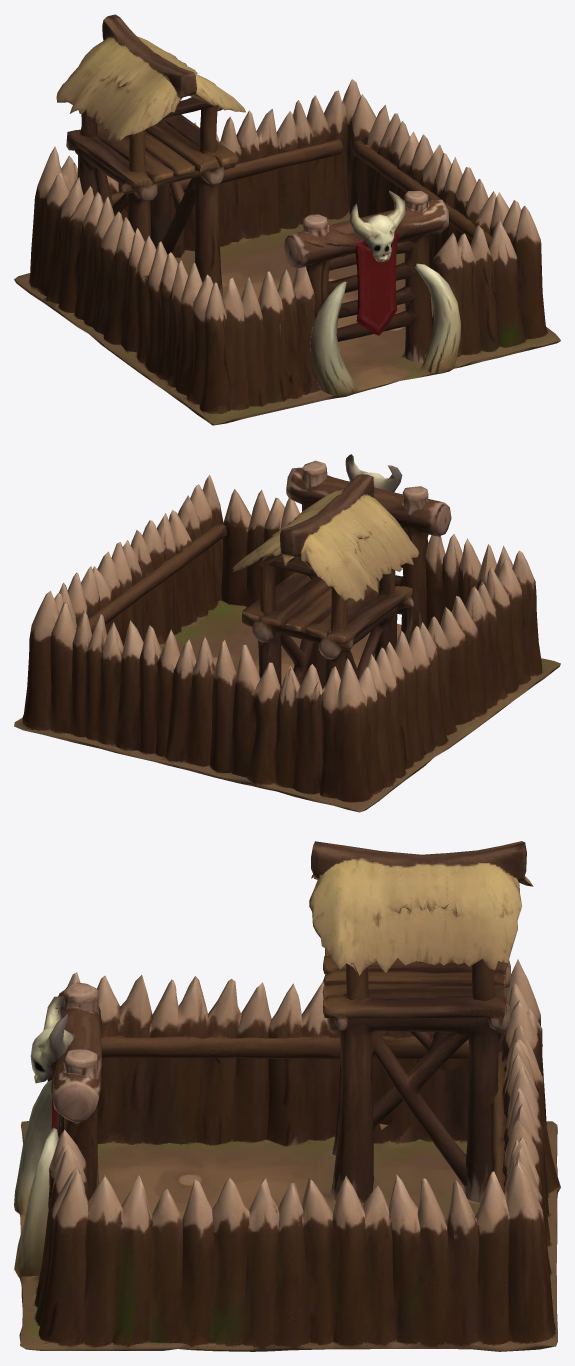
Rendered from fort_beasts.glb.
The picture shows the model from 3 angles, top to bottom: view 1: azimuth 30°, elevation 25°; view 2: azimuth 150°, elevation 25°; view 3: azimuth 270°, elevation 25°; orthographic projection. The views are drawn at different scales.
Parts seen in each view (by area): view 1: world; view 2: world; view 3: world.
Part boxes in pixels (x1,y1,x2,y2): world: (14, 14, 560, 425); world: (14, 454, 560, 812); world: (14, 841, 560, 1351).
Size of the model in its own units: 0.9889 by 0.6829 by 1.
1 material, 1 textured.
